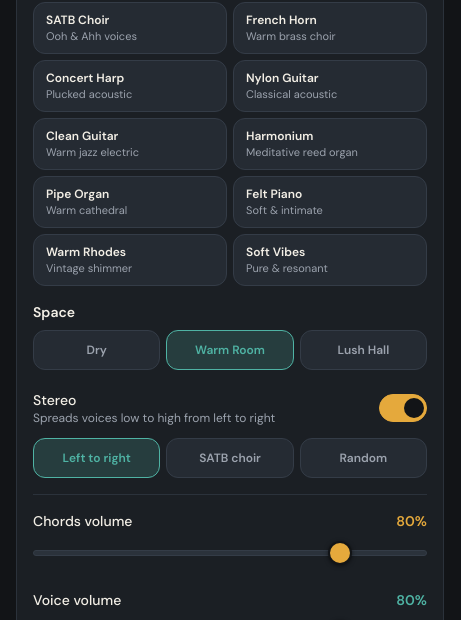
Paws Off App UI › supports Melody over chords, Allow tensions, Melody volume, and auto-paired Melody sound with manual override
(page scrolled)
Check: the switch labelled "allow tensions" is not shown
// Switching chord sound to Warm Rhodes auto-selects Clean Guitar as paired melody sound
Click the button "Warm Rhodes Vintage shimmer" at (130, 260), box [33,234,227,286]
(page scrolled)
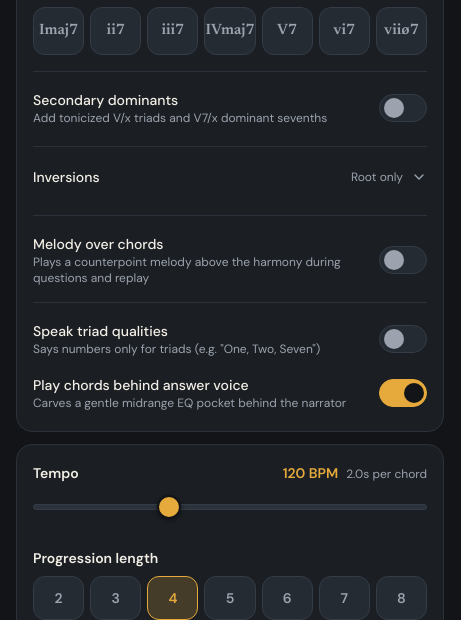
Click the switch named "melody over chords" in the row of "Melody over chords" at (403, 260), box [379,246,427,274]
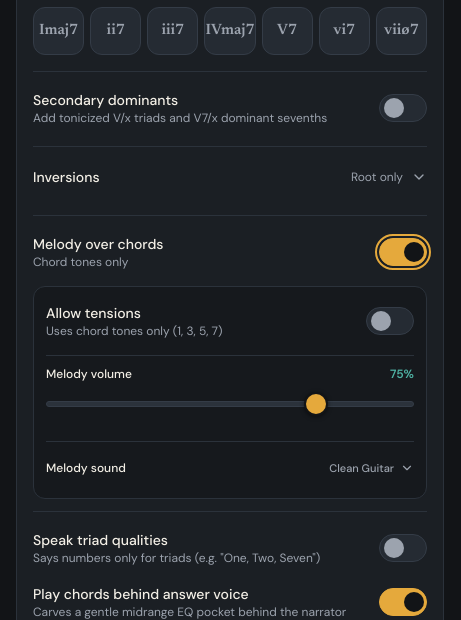
Check: the slider labelled "Melody volume" is shown, box [46,386,414,422]
Check: the text "Clean Guitar" is shown, box [329,461,394,475]
Click the button "Melody sound Clean Guitar" at (86, 468), box [46,450,414,486]
(page scrolled)
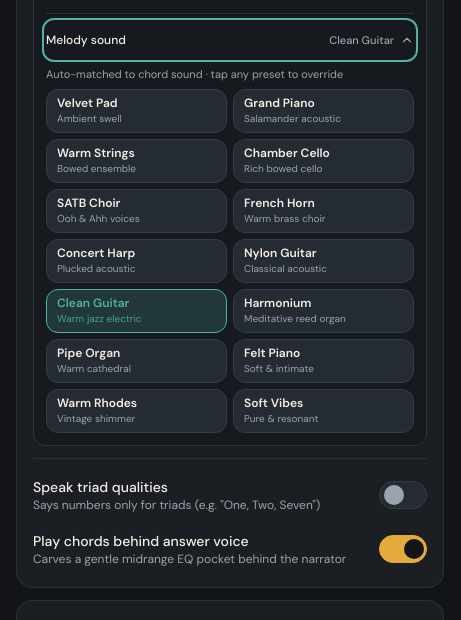
Check: the button "Melody sound Clean Guitar" is expanded, box [46,22,414,58]
Click the button "Concert Harp Plucked acoustic" at (136, 260), box [46,238,227,282]
(page scrolled)
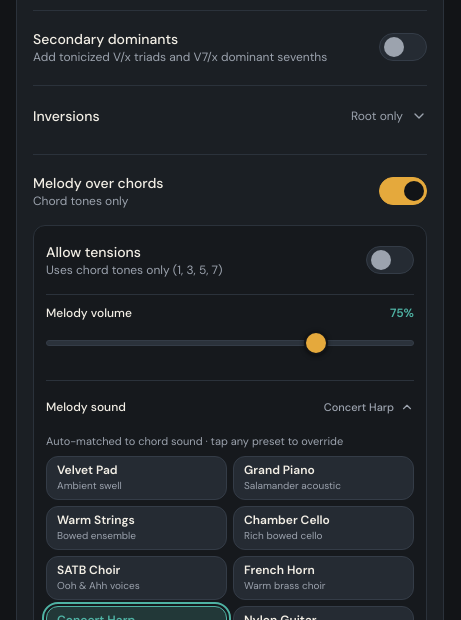
Check: the 1st text "Concert Harp" is shown, box [324,400,394,414]
Click the switch named "allow tensions" next to "Uses chord tones only (1, 3, 5, 7)" at (390, 260), box [366,246,414,274]
(page scrolled)
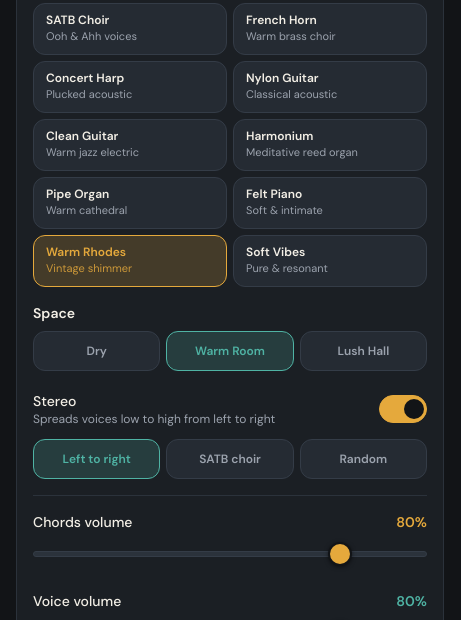
Click the button "Soft Vibes Pure & resonant" at (330, 260), box [233,234,427,286]
(page scrolled)
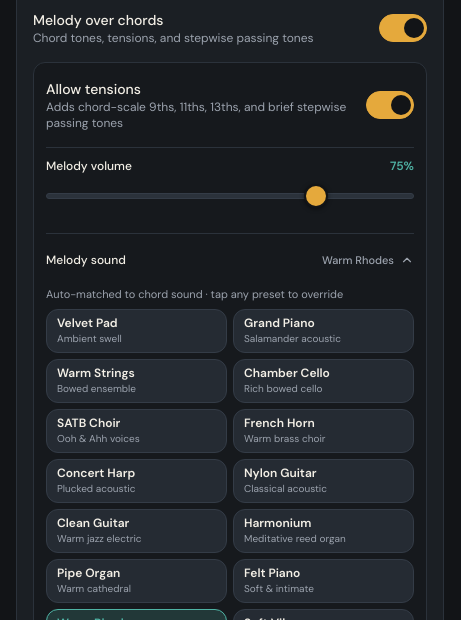
Check: the 1st text "Warm Rhodes" is shown, box [322,253,394,267]
